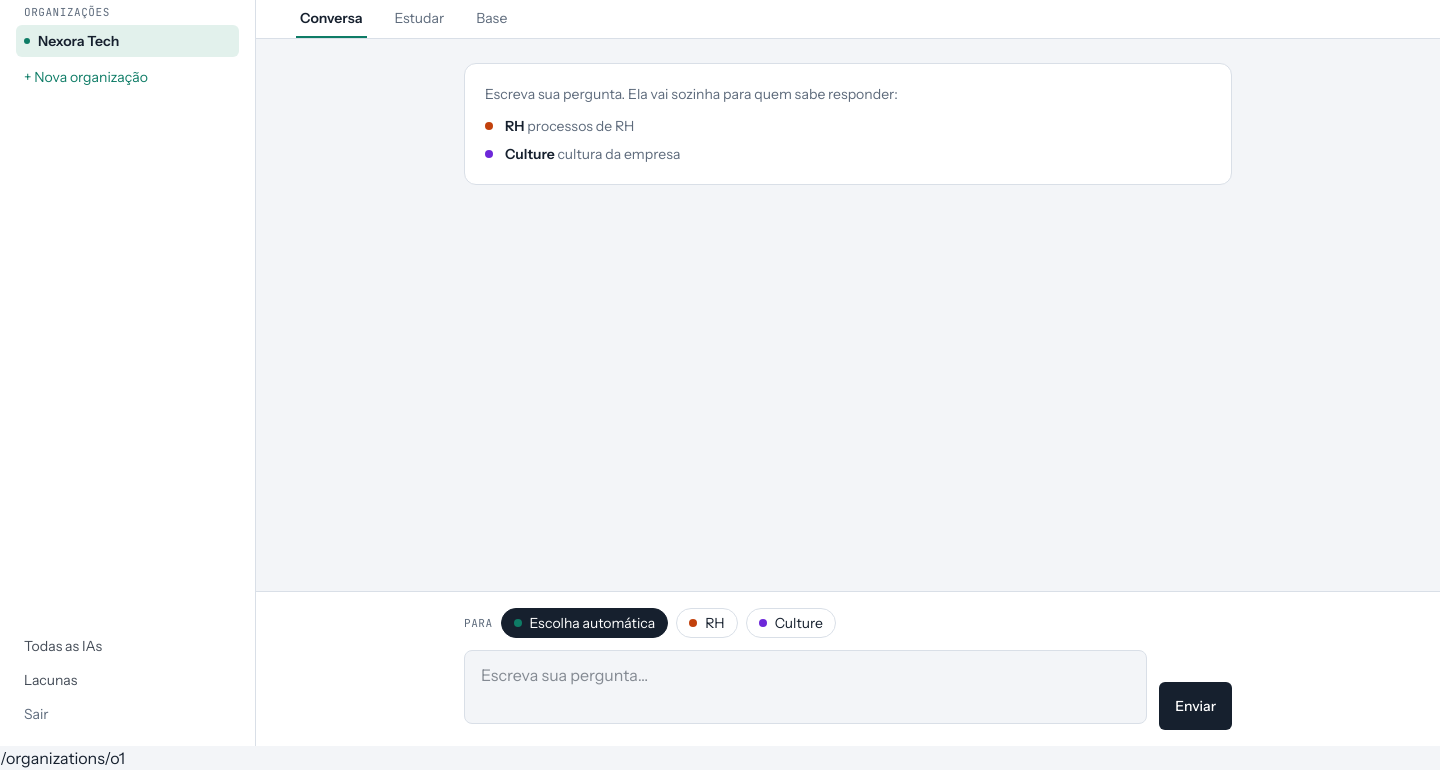
Test: source preview › preview closes and reopens
This screenshot has width=1440, height=770.
(page scrolled)
Type "Como peço férias?" into the text box named "Mensagem" at (806, 687), box [464,650,1147,724]
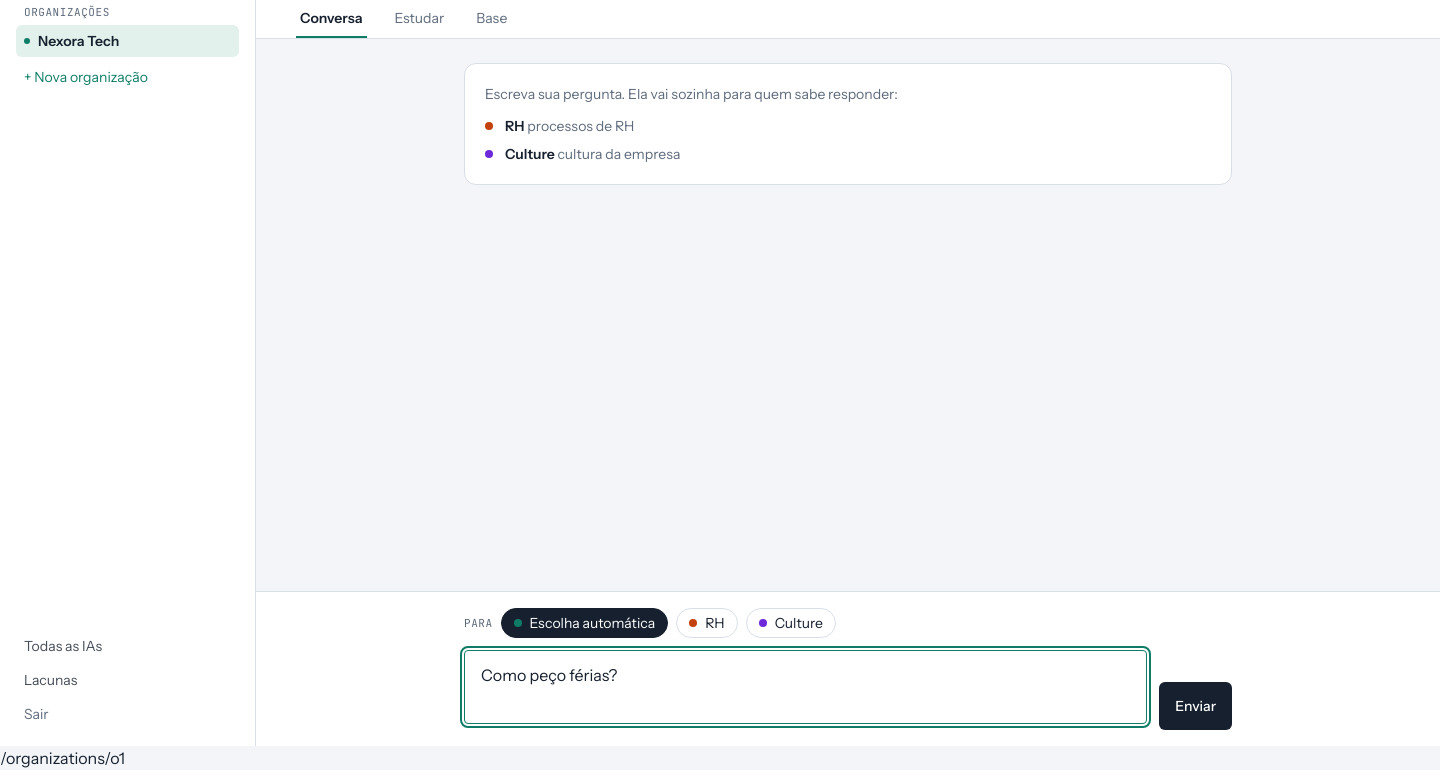
Click the button "Enviar" at (1196, 706), box [1159,682,1232,730]
(page scrolled)
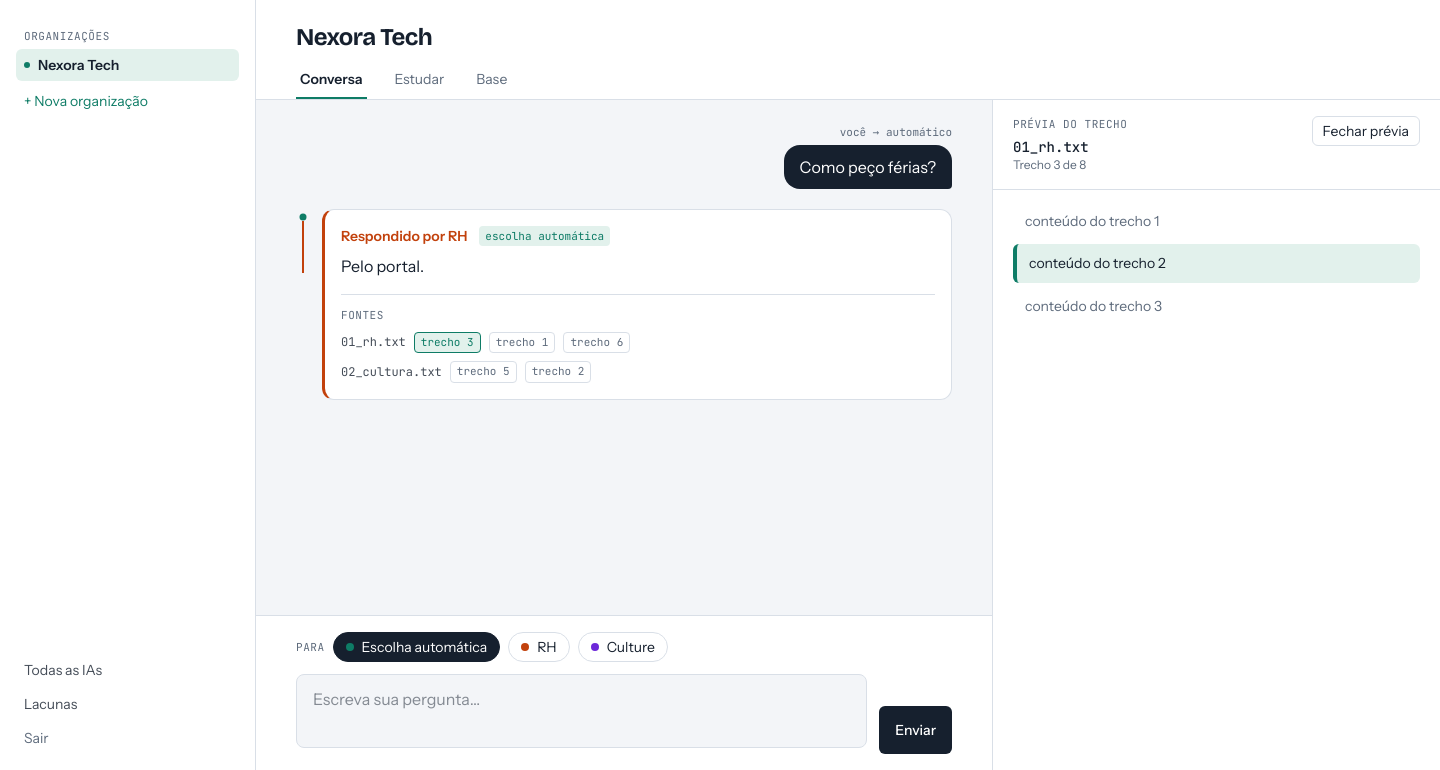
Expected: the text "Trecho 3 de 8" is shown, [1013,156,1086,172]
Click the button "Fechar prévia" at (1366, 131), box [1312,116,1420,146]
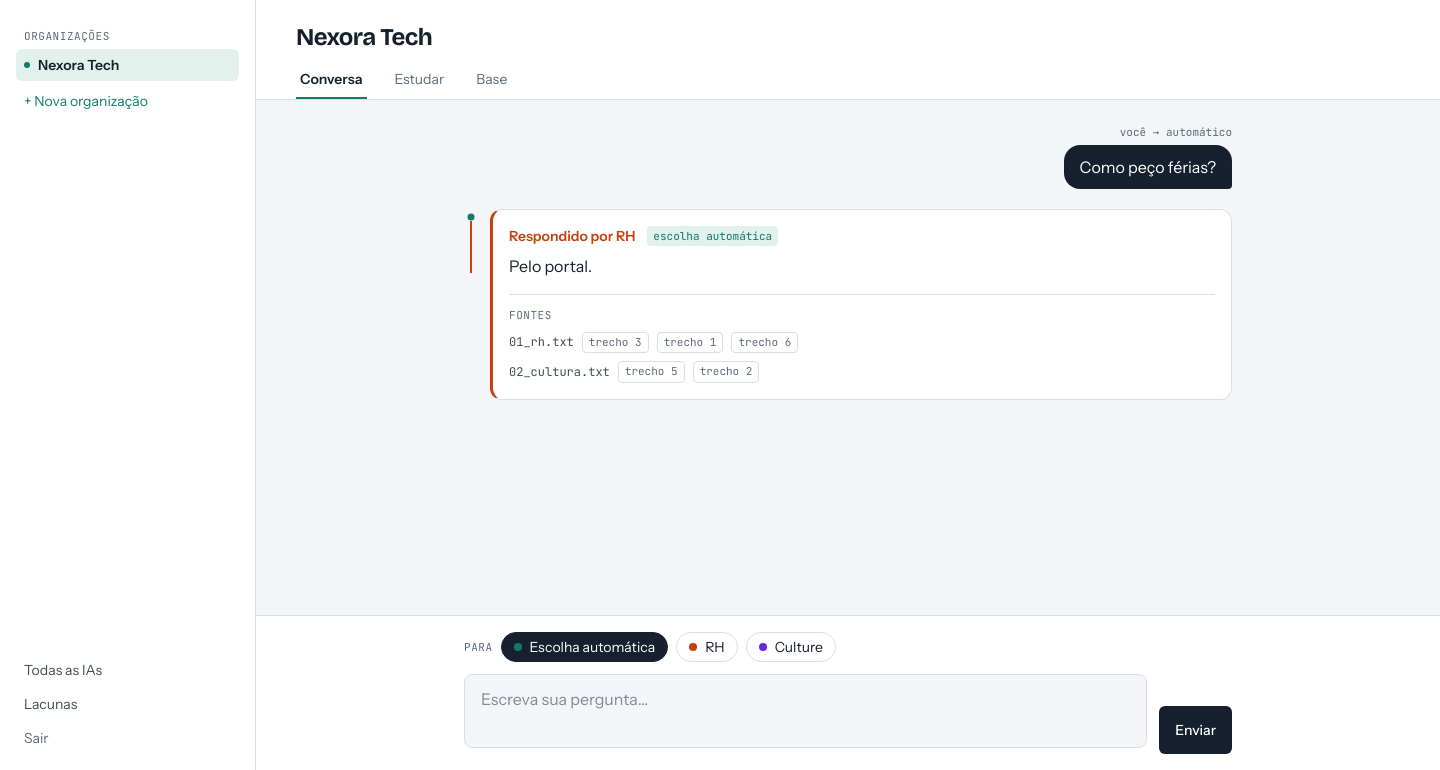
Expected: the text "Prévia do trecho" is gone
Click the button "trecho 1" at (690, 342), box [657,332,723,353]
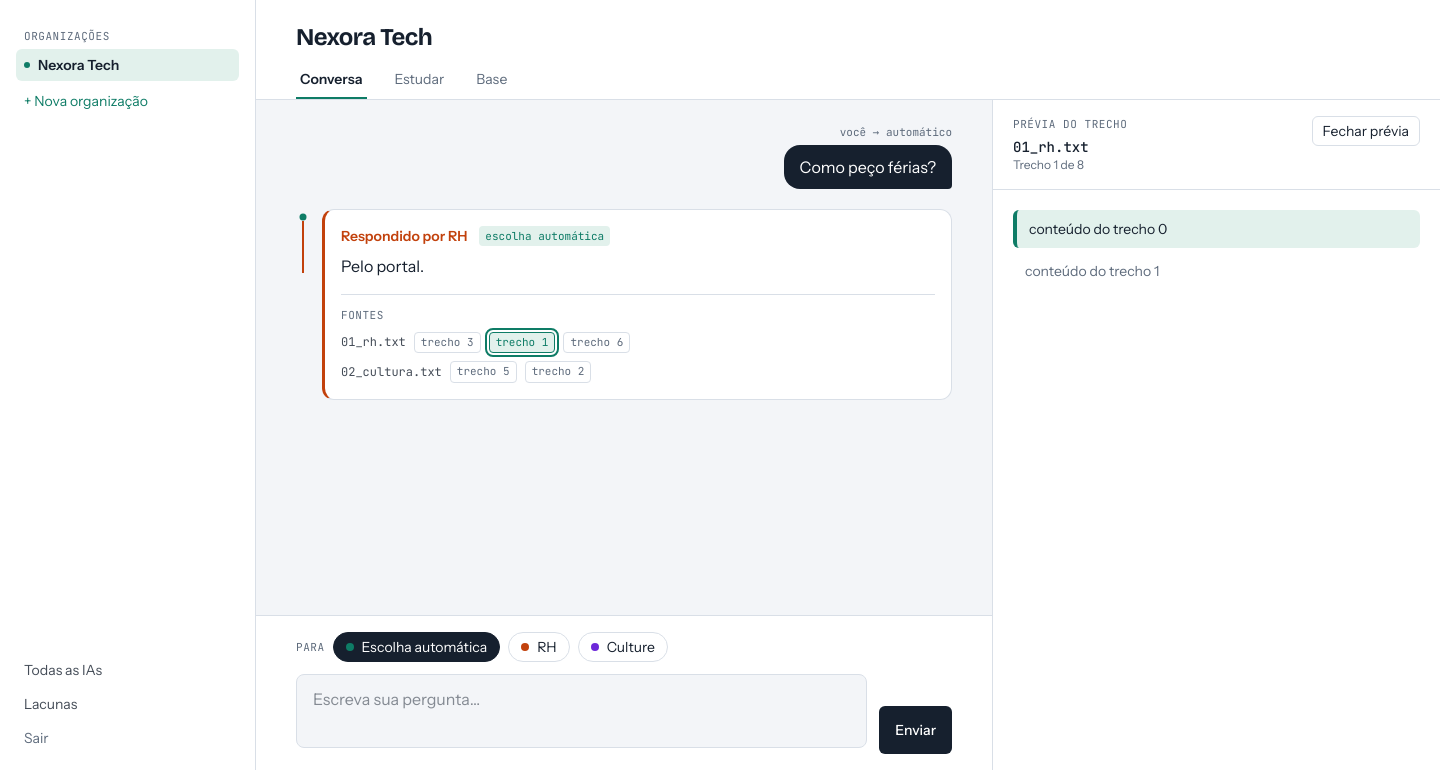
Expected: the text "Trecho 1 de 8" is shown, [1013,156,1084,172]
